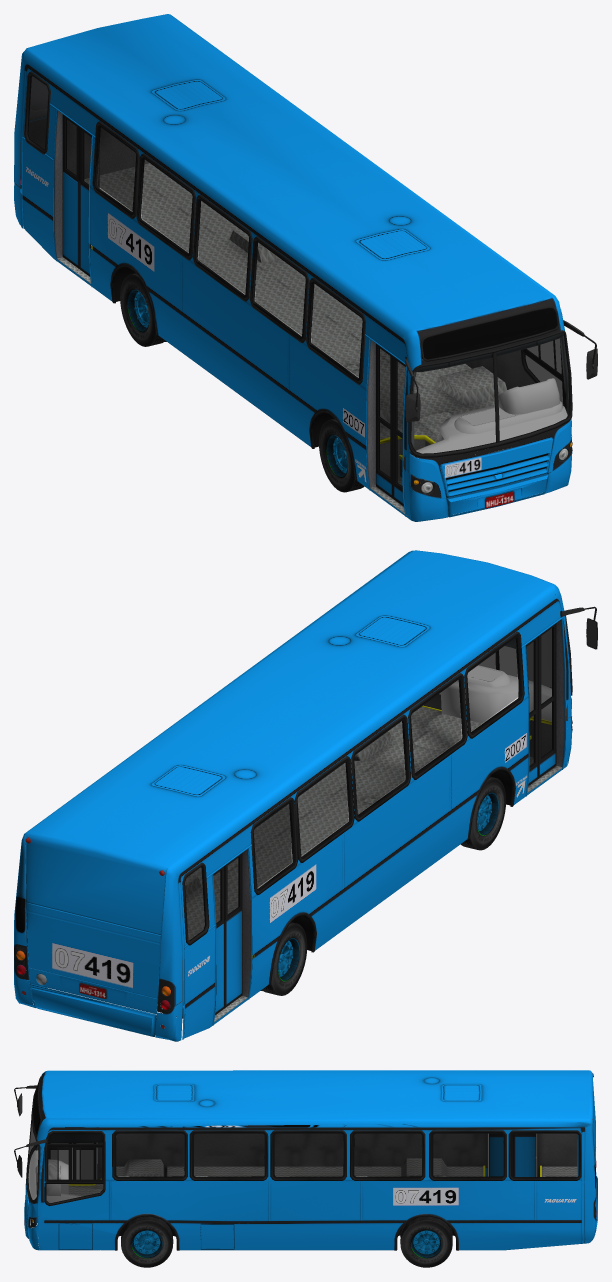
The model's file is Volvo_Bus _Testing2.fbx.
The picture shows the model from 3 angles, top to bottom: view 1: azimuth 30°, elevation 25°; view 2: azimuth 150°, elevation 25°; view 3: azimuth 270°, elevation 25°; orthographic projection. The views are drawn at different scales.
Visible parts, largest first — view 1: Bus, Gate_Back, Gate_Front, BackRight_Wheels, FrontRight_Wheels; view 2: Bus, Gate_Front, Gate_Back, BackRight_Wheels, FrontRight_Wheels; view 3: Bus, BackLeft_Wheels, FrontLeft_Wheels, Gate_Back, Gate_Front.
Boxes of the visible parts, left/top/right/bottom form: Bus: left=14, top=14, right=597, bottom=521; Gate_Back: left=62, top=114, right=91, bottom=276; Gate_Front: left=376, top=344, right=405, bottom=506; BackRight_Wheels: left=120, top=273, right=166, bottom=346; FrontRight_Wheels: left=319, top=418, right=364, bottom=492; Bus: left=14, top=550, right=597, bottom=1041; Gate_Front: left=526, top=623, right=556, bottom=785; Gate_Back: left=213, top=853, right=242, bottom=1015; BackRight_Wheels: left=260, top=922, right=307, bottom=995; FrontRight_Wheels: left=460, top=776, right=506, bottom=850; Bus: left=14, top=1070, right=597, bottom=1250; BackLeft_Wheels: left=400, top=1216, right=452, bottom=1267; FrontLeft_Wheels: left=121, top=1216, right=173, bottom=1267; Gate_Back: left=489, top=1133, right=536, bottom=1176; Gate_Front: left=48, top=1143, right=96, bottom=1179.
Bounding box in the file's own units: 302 × 320 × 1131.
